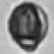correct: (6, 2, 50, 53)
